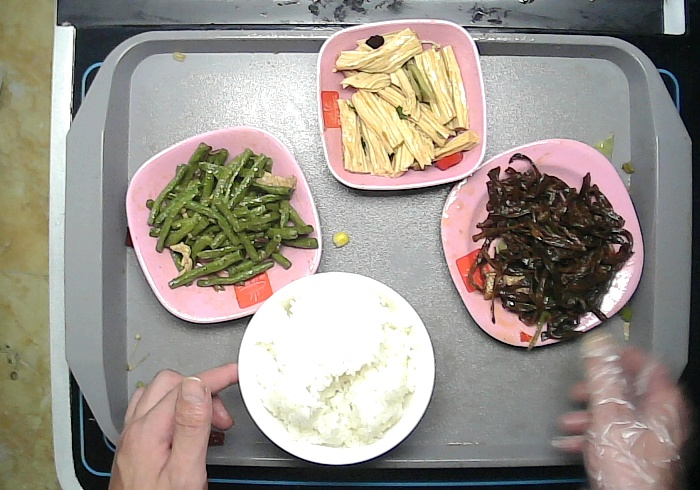SHKJ-Fan_Wan: (239, 273, 436, 461)
SHKJ-Fen_Se_Cai_Die: (124, 124, 326, 331)
SHKJ-Fen_Se_Si_Fang_Cai_Die: (441, 138, 645, 353)
SHKJ-Fen_Se_Xiao_Fang_Die: (315, 18, 485, 187)
